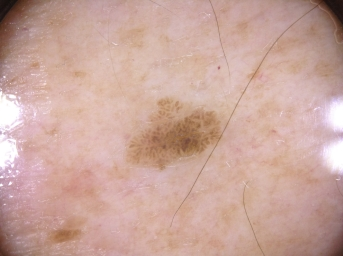seborrheic keratosis: (109, 79, 235, 183)
